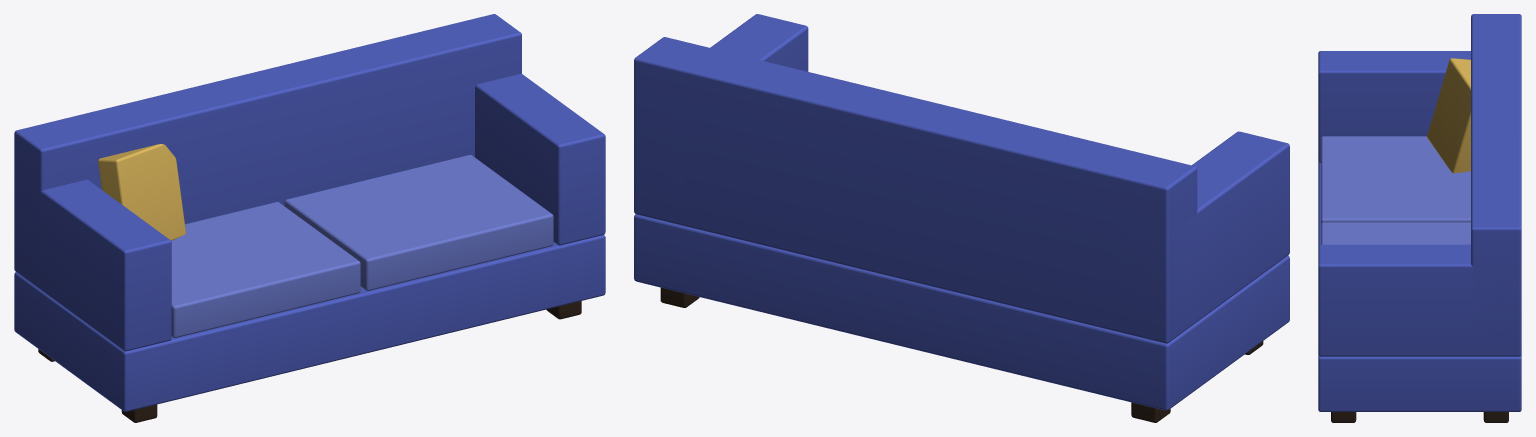
The model's file is sofa.glb.
The picture shows the model from 3 angles, left to right: view 1: azimuth 30°, elevation 25°; view 2: azimuth 150°, elevation 25°; view 3: azimuth 270°, elevation 25°; orthographic projection. The views are drawn at different scales.
Parts seen in each view (by area): view 1: sofa-solid; view 2: sofa-solid; view 3: sofa-solid.
Part boxes in pixels (x1,y1,x2,y2): sofa-solid: (14, 14, 605, 422); sofa-solid: (634, 14, 1289, 422); sofa-solid: (1318, 14, 1521, 422).
Bounding box in the file's own units: 0.7995 × 0.352 × 0.3195.
